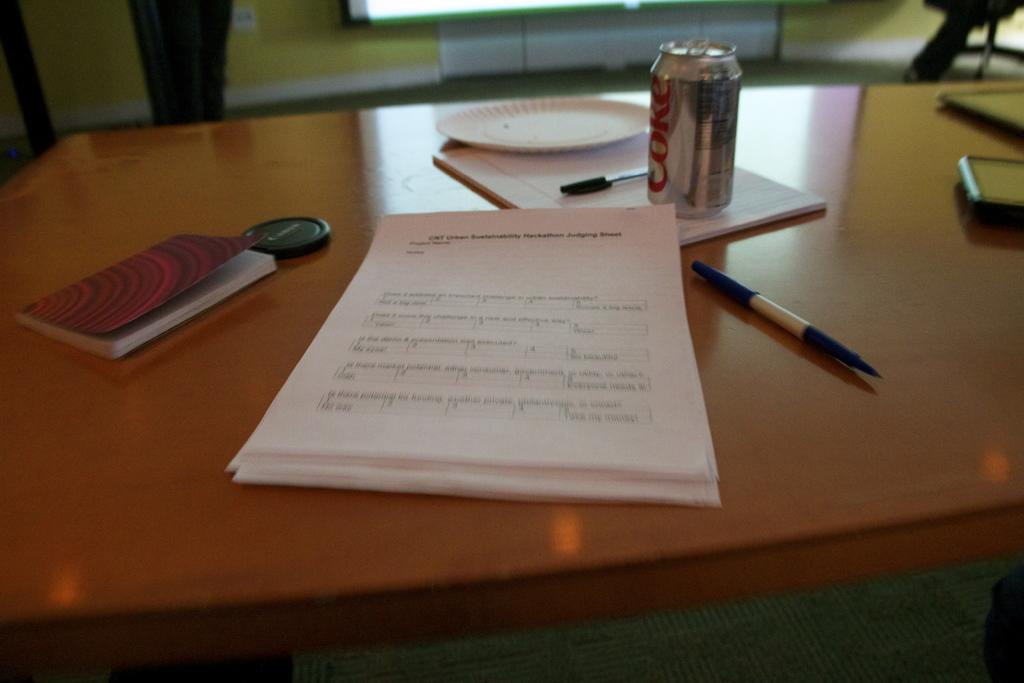pen: (692, 260, 884, 378), (554, 163, 648, 200)
